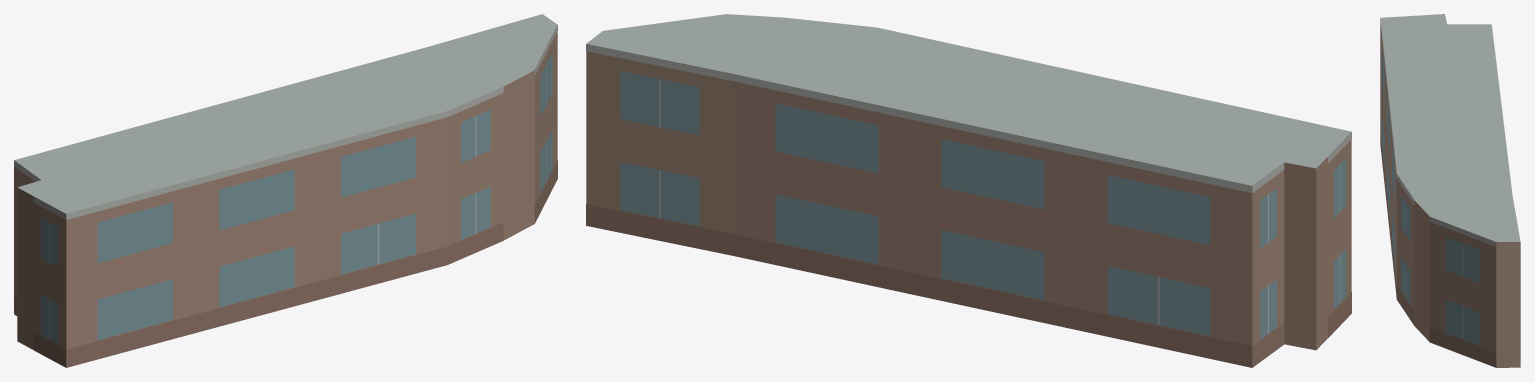
The model's file is survey-upis-32750725.glb.
3 views of the same model, side by side, from view 1: azimuth 30°, elevation 25°; view 2: azimuth 150°, elevation 25°; view 3: azimuth 270°, elevation 25° (orthographic). The views are drawn at different scales.
Visible parts, largest first — view 1: survey-upis-32750725.tmp; view 2: survey-upis-32750725.tmp; view 3: survey-upis-32750725.tmp.
Boxes of the visible parts, box(x1,y1,x2,y2) form: survey-upis-32750725.tmp: box(14, 14, 557, 367); survey-upis-32750725.tmp: box(586, 14, 1351, 367); survey-upis-32750725.tmp: box(1380, 14, 1520, 367).
Size of the model in its own units: 23.73 by 6.1 by 6.17.
